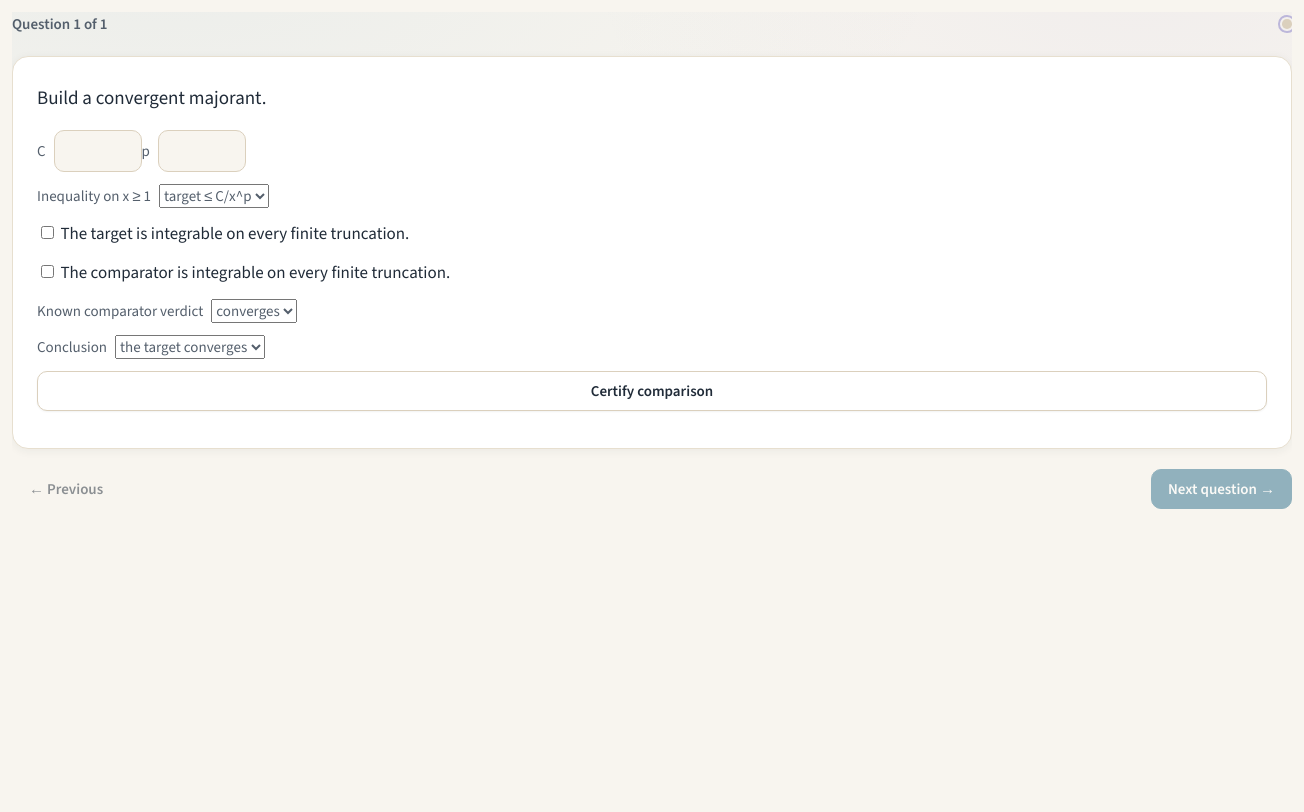
Test: ExercisePanel renders the tail-comparison capability › collects the comparator and both finite-truncation hypotheses
The width and height of the screenshot is (1304, 812).
Type "0.5" into the number field named "Comparator coefficient C" at [98, 151], box [54,130,142,172]
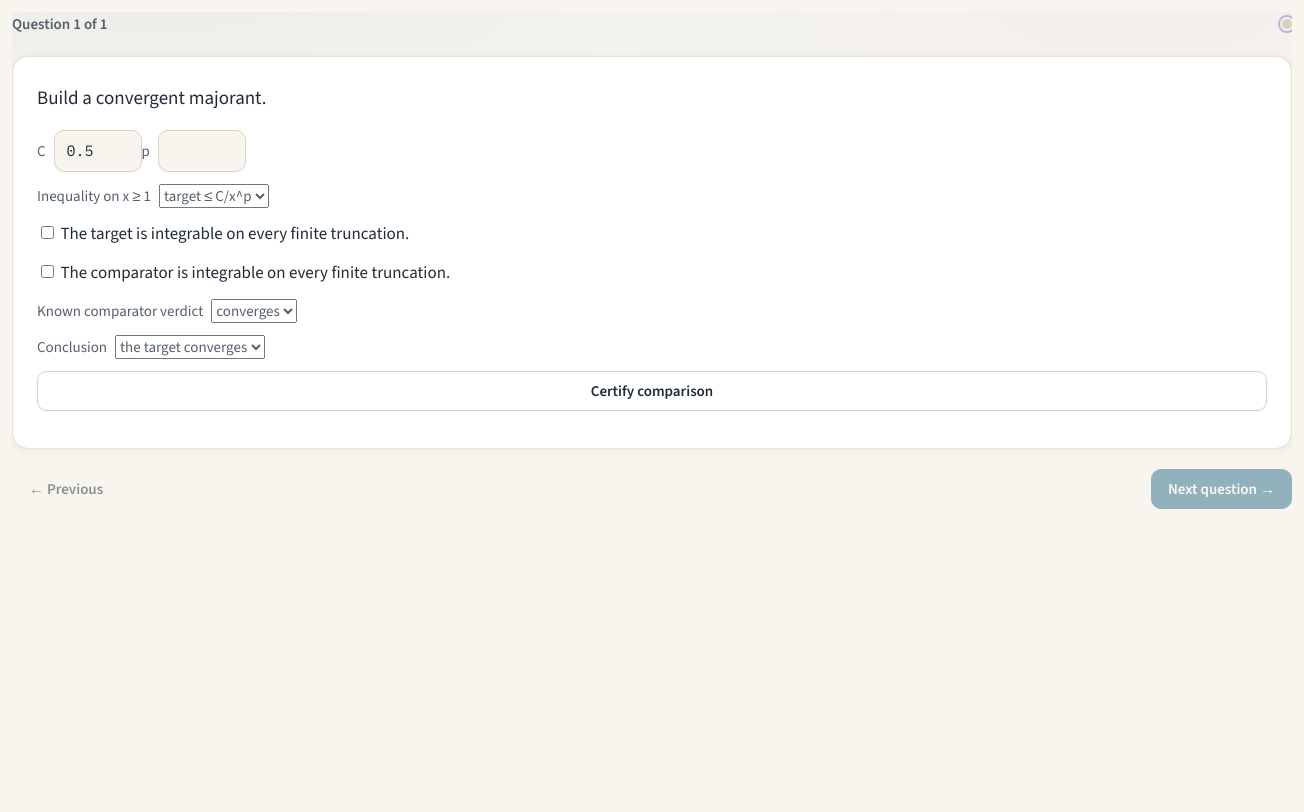
Type "2" into the number field named "Comparator exponent p" at [202, 151], box [158,130,246,172]
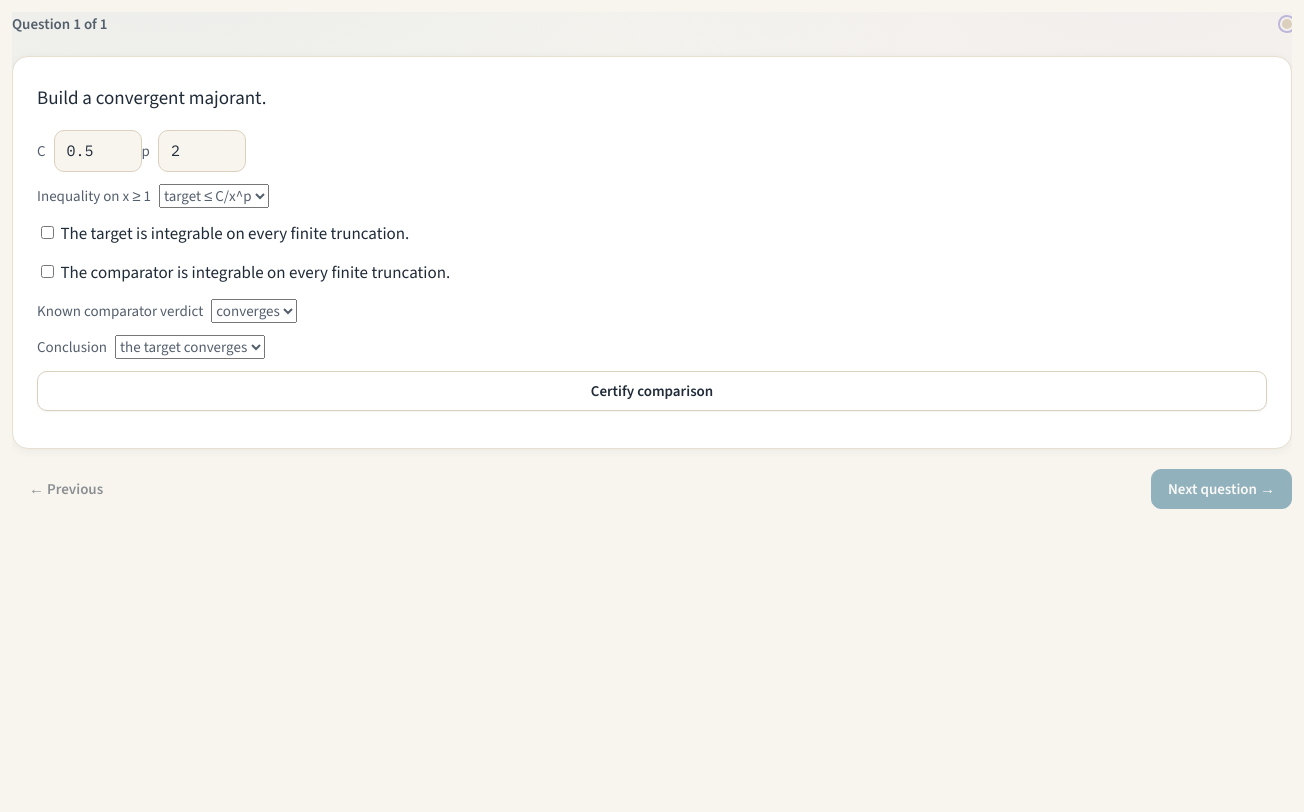
Click the checkbox labelled "The target is integrable on every finite truncation." at [48, 233], box [41,226,54,239]
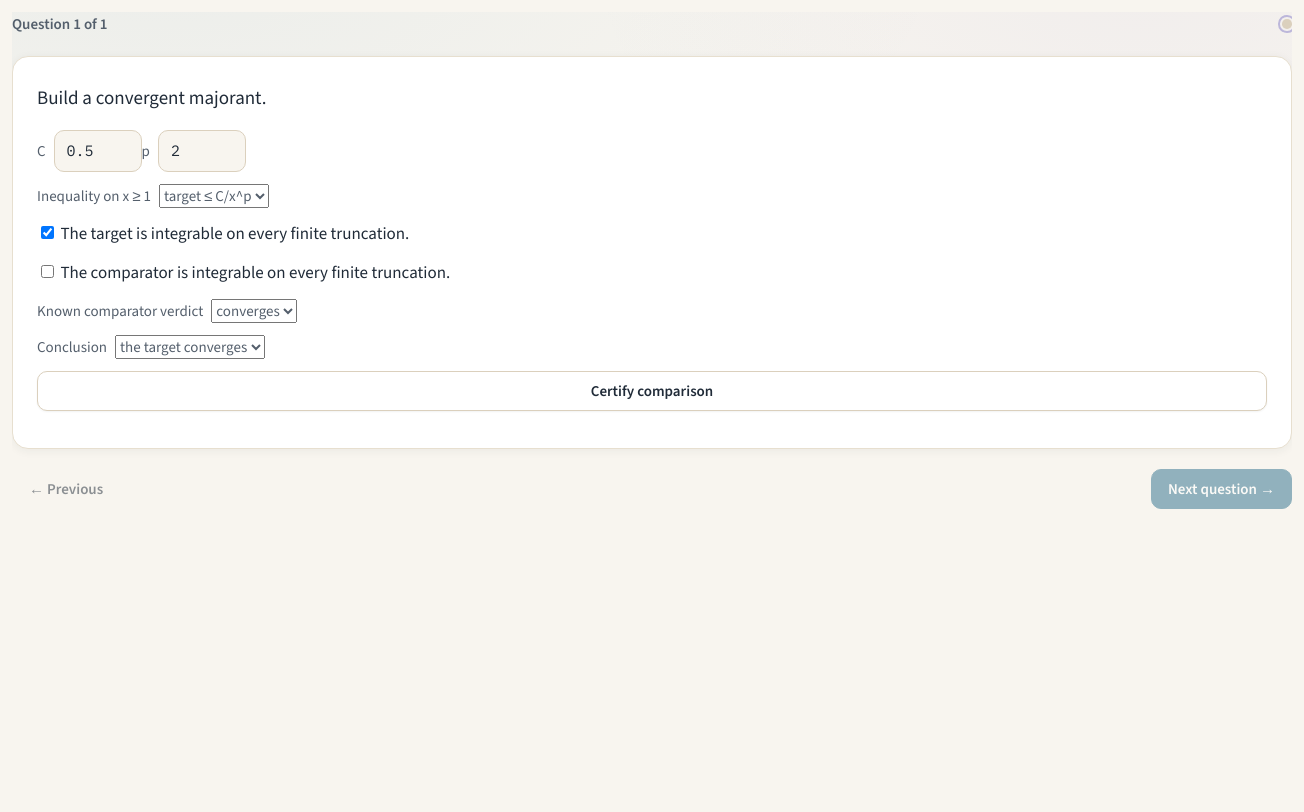
Click the checkbox labelled "The comparator is integrable on every finite truncation." at [48, 272], box [41,265,54,278]
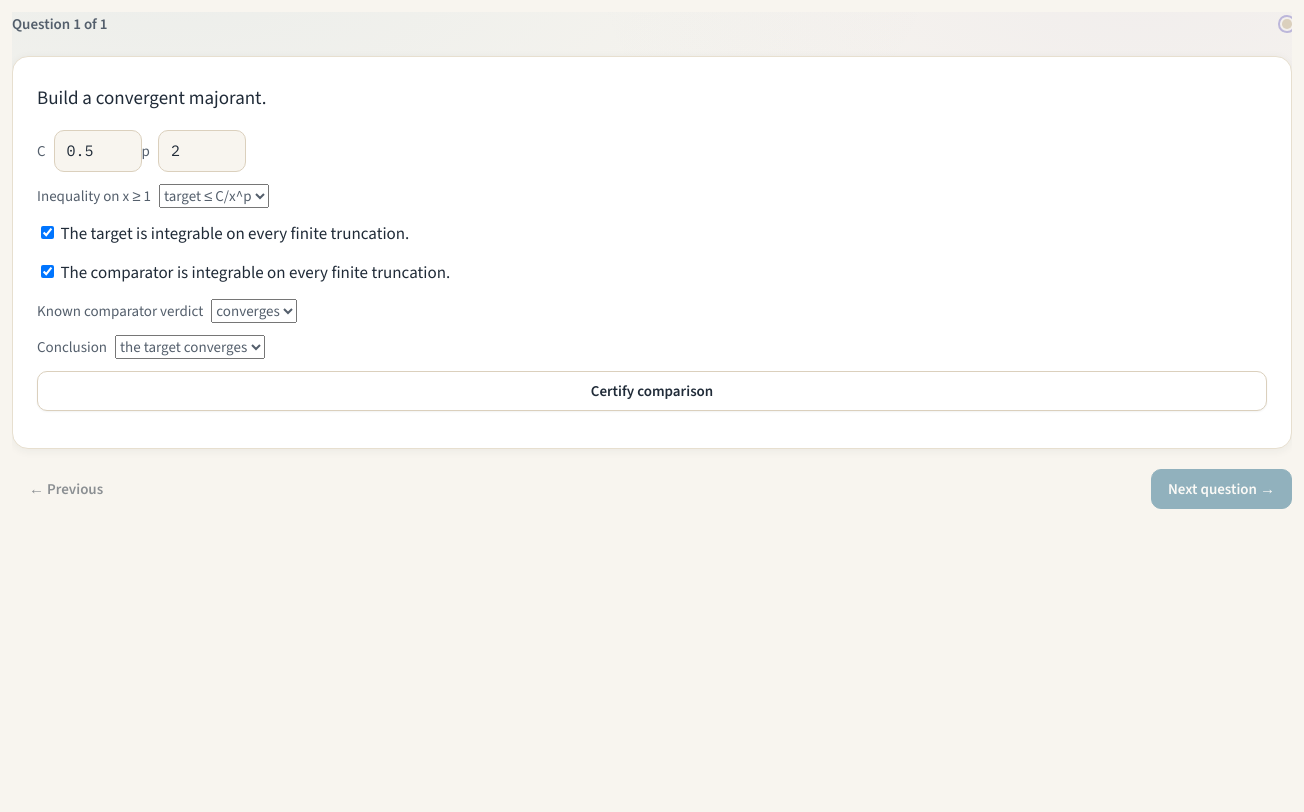
Click the button "Certify comparison" at [652, 391], box [37,371,1267,411]
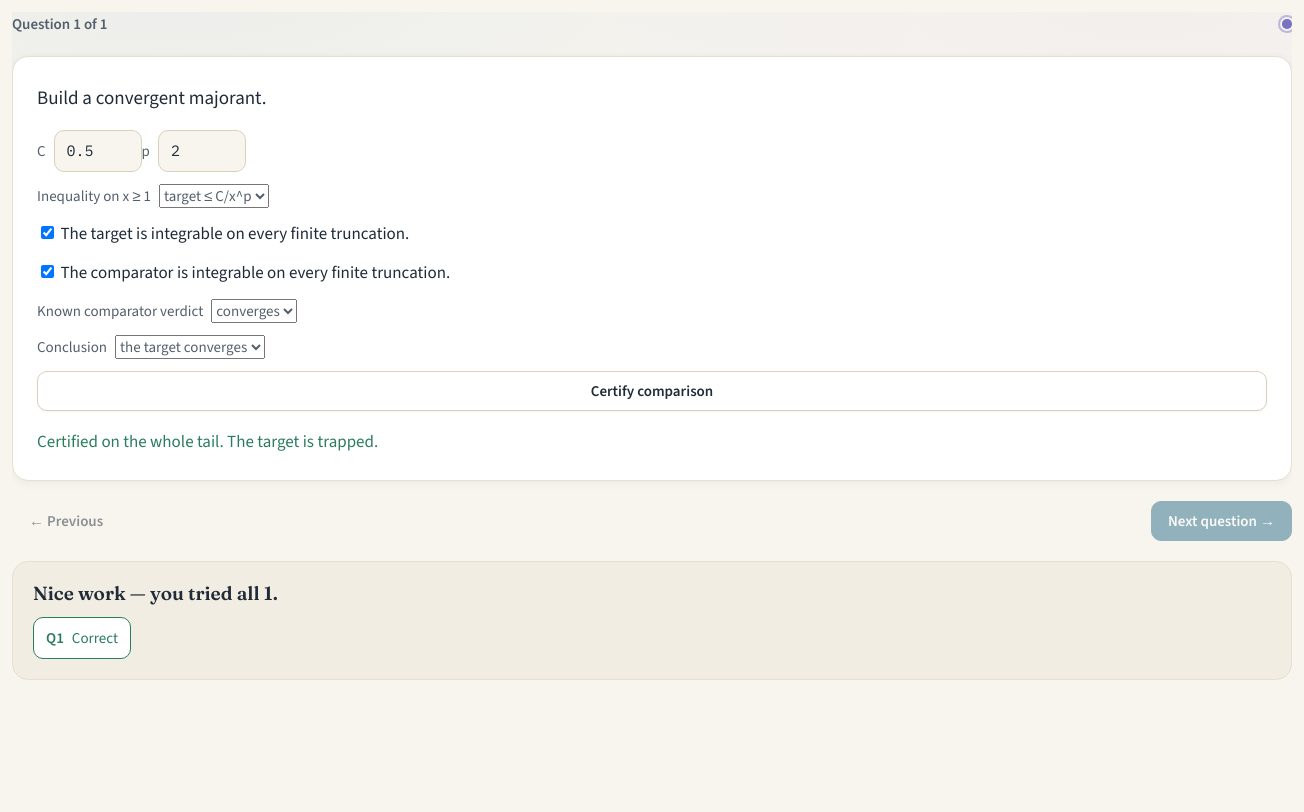
Expected: the text "Certified on the whole tail." is shown, [37,430,378,453]
Expected: the text "Correct" is shown, [72,626,118,650]
